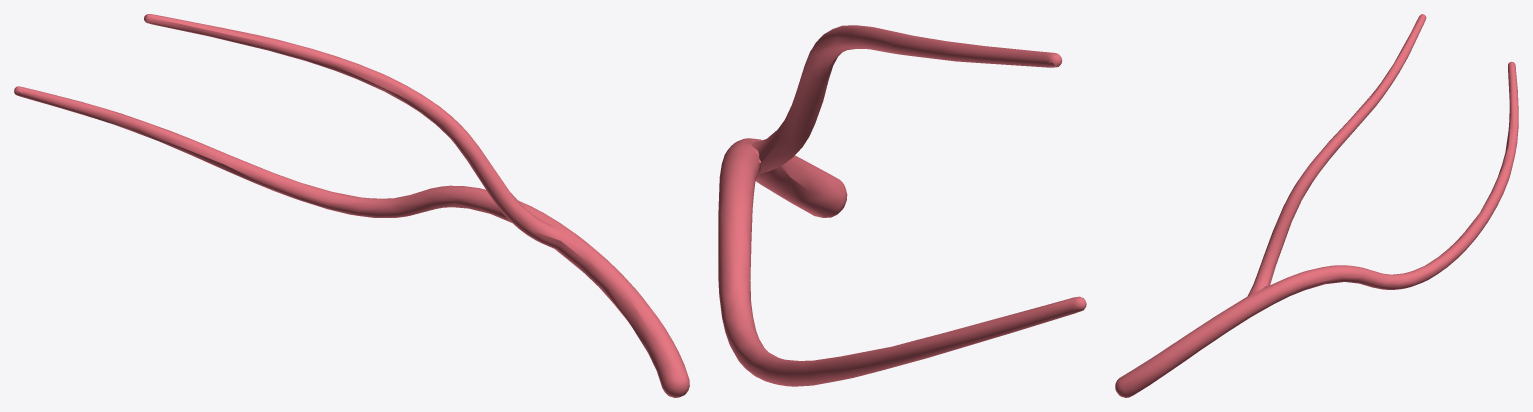
File: fma50477_fj1673m.glb
The picture shows the model from 3 angles, left to right: view 1: azimuth 30°, elevation 25°; view 2: azimuth 150°, elevation 25°; view 3: azimuth 270°, elevation 25°; orthographic projection. The views are drawn at different scales.
Visible parts, largest first — view 1: FMA50477_FJ1673M; view 2: FMA50477_FJ1673M; view 3: FMA50477_FJ1673M.
Boxes of the visible parts, bbox=[...] form: FMA50477_FJ1673M: bbox=[14, 14, 689, 397]; FMA50477_FJ1673M: bbox=[718, 25, 1086, 386]; FMA50477_FJ1673M: bbox=[1115, 14, 1518, 397].
Size of the model in its own units: 0.0238 by 0.0173 by 0.0249.
